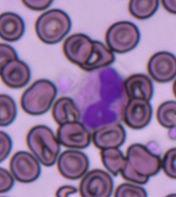N: (74, 64, 127, 130)
